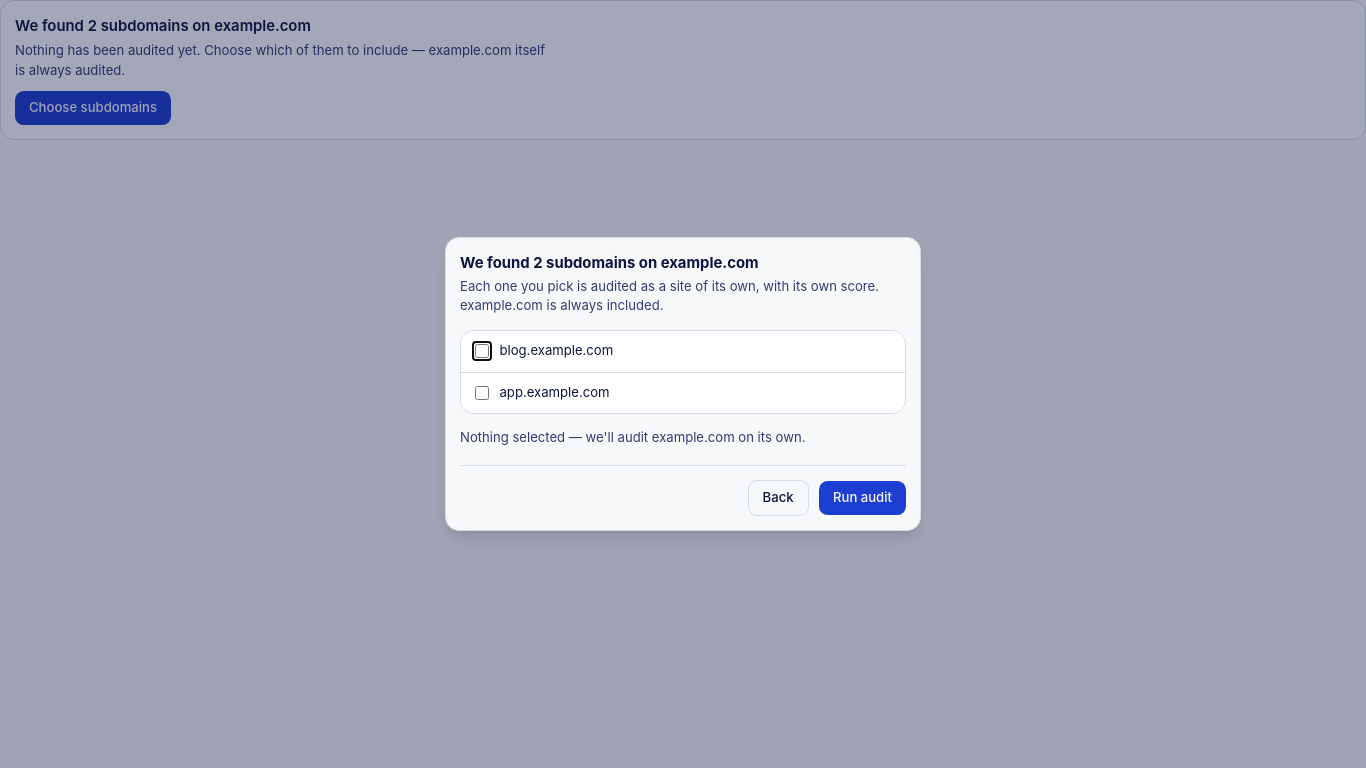
Test: AeoSubdomainPicker › says what picking nothing will do, and what picking something will do
The image size is (1366, 768).
Expected: the text "Nothing selected — we'll audit example.com on its own." is shown, [460,429,805,445]
Click the checkbox labelled "blog.example.com" at (482, 351), box [475,344,489,358]
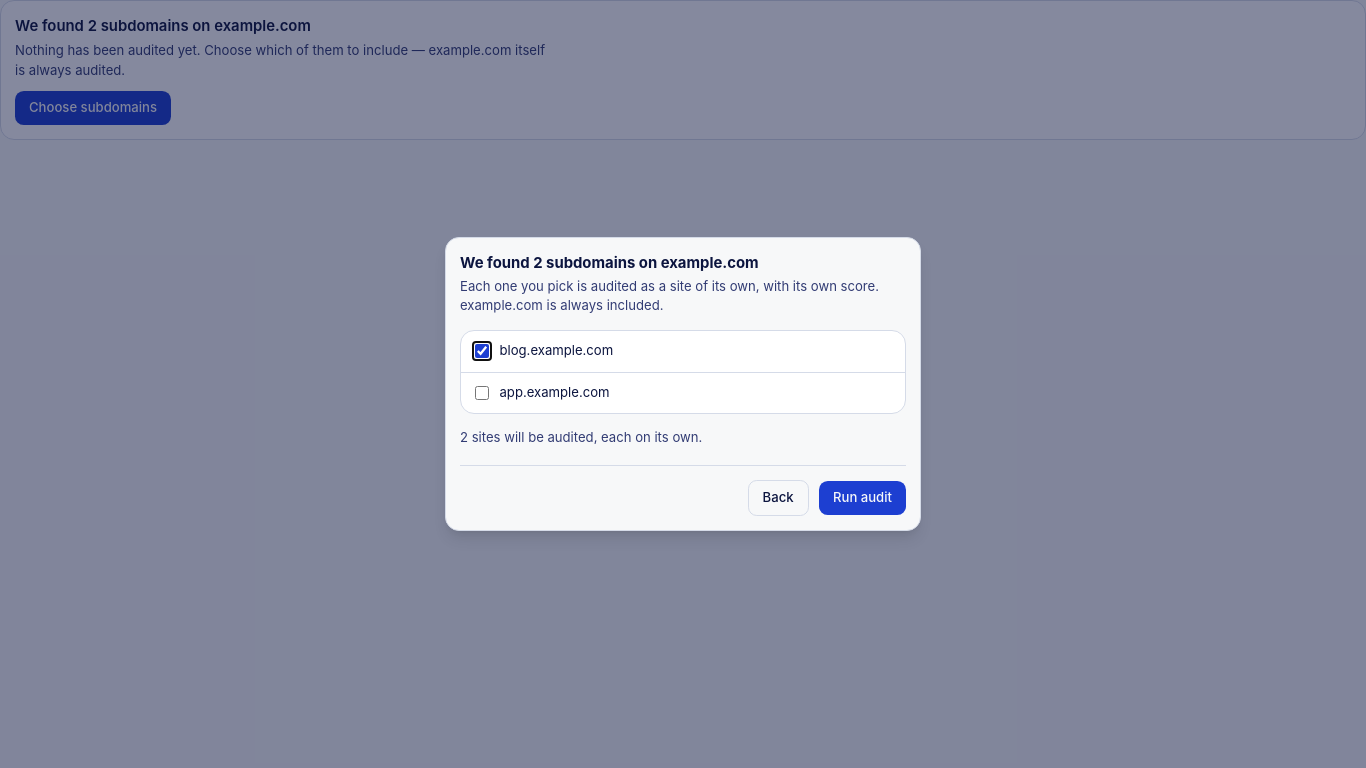
Result: the text "2 sites will be audited, each on its own." is shown at [460,429,702,445]
